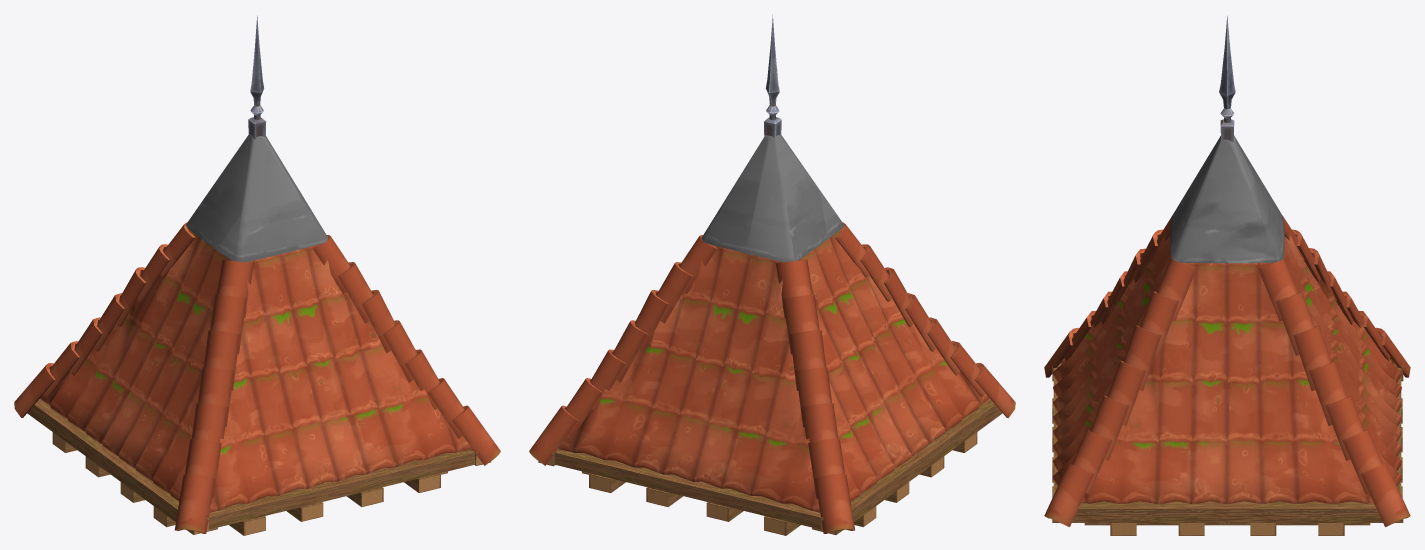
Rendered from tower_roof.glb.
3 renders of one model, left to right at view 1: azimuth 30°, elevation 25°; view 2: azimuth 150°, elevation 25°; view 3: azimuth 270°, elevation 25°, orthographic. The views are drawn at different scales.
Parts seen in each view (by area): view 1: Roof_Tower_RoundTiles; view 2: Roof_Tower_RoundTiles; view 3: Roof_Tower_RoundTiles.
Boxes of the visible parts, bbox=[...] form: Roof_Tower_RoundTiles: bbox=[14, 15, 500, 535]; Roof_Tower_RoundTiles: bbox=[529, 14, 1015, 535]; Roof_Tower_RoundTiles: bbox=[1044, 15, 1410, 535].
Bounding box in the file's own units: 5.65 × 7.36 × 5.43.
4 materials, 4 textured.
